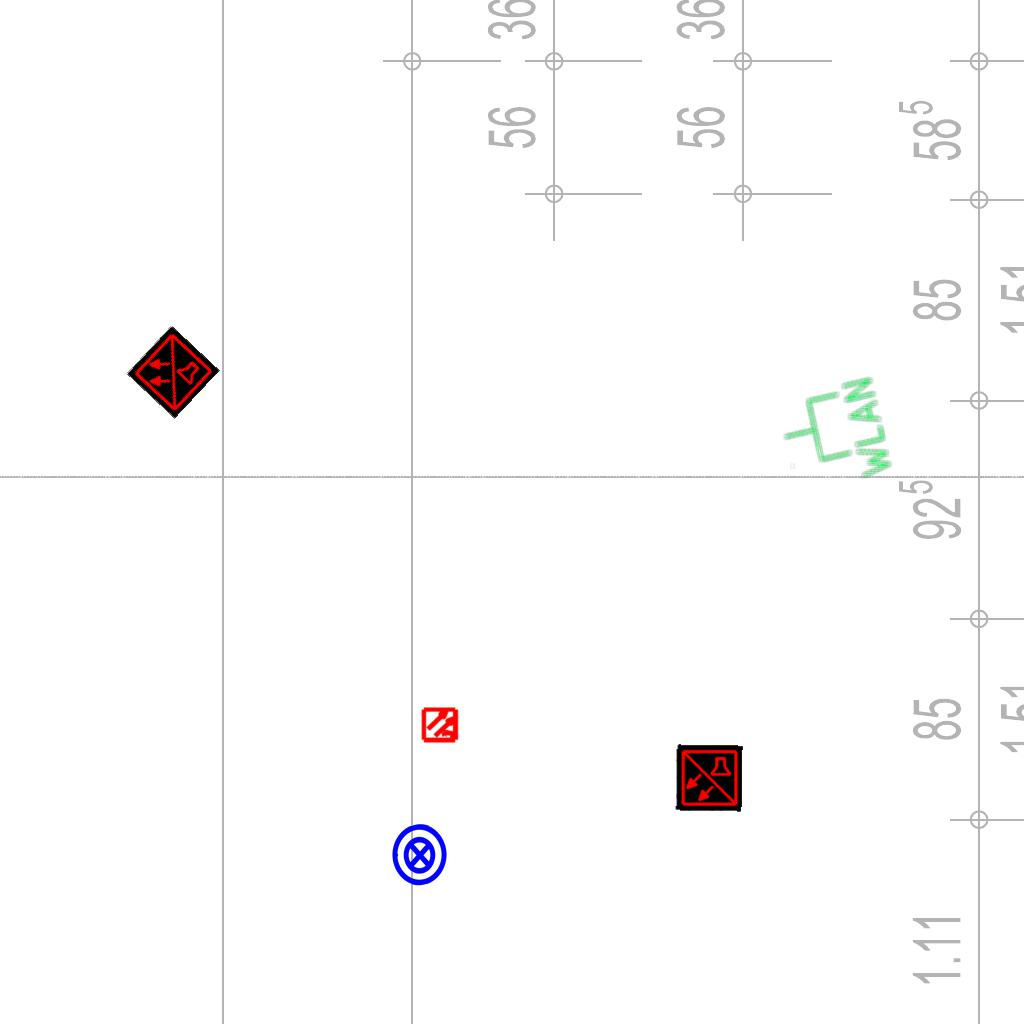OKW_Multisensormelder_(Kombination_optischer_Rauch-Kahlenmonoxid_Waerme-Melder): (126, 325, 220, 419), (675, 744, 743, 812)
OT_Multisensormelder_(Kombination_RMO_WMD): (413, 697, 469, 753)
Taster_beleuchtet: (386, 821, 454, 889)
WLAN: (772, 372, 898, 499)
